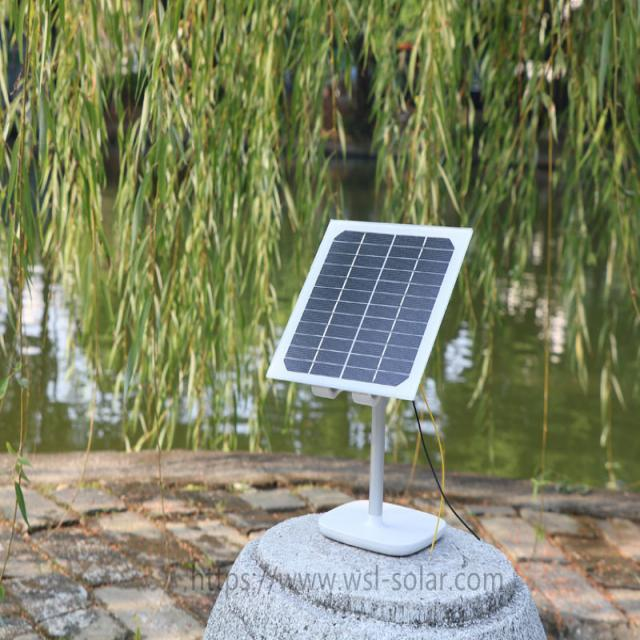no faulty: (296, 212, 454, 402)
